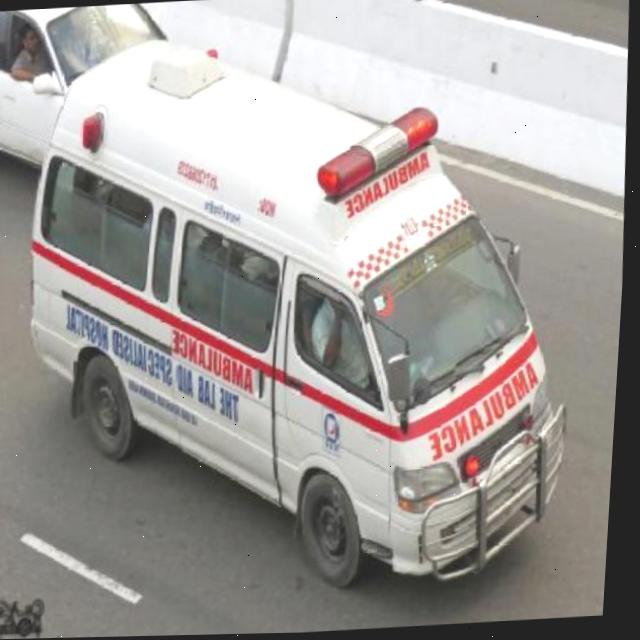emergency: (6, 14, 596, 609)
